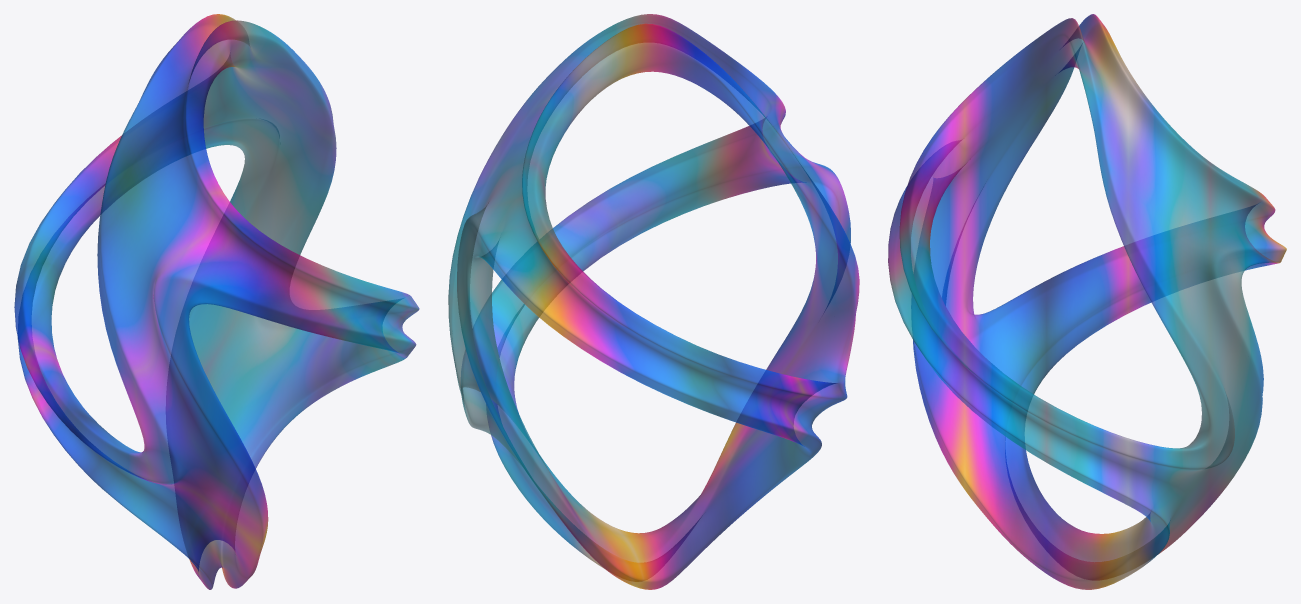
Rendered from abstract3-transformed.glb.
3 views of the same model, side by side, from view 1: azimuth 30°, elevation 25°; view 2: azimuth 150°, elevation 25°; view 3: azimuth 270°, elevation 25° (orthographic).
Parts seen in each view (by area): view 1: Hedra001_Material #0_0; view 2: Hedra001_Material #0_0; view 3: Hedra001_Material #0_0.
Boxes of the visible parts, x1,y1,x2,y2 form: Hedra001_Material #0_0: (14,14,419,589); Hedra001_Material #0_0: (448,14,859,589); Hedra001_Material #0_0: (888,14,1286,589).
Size of the model in its own units: 1.84 by 2.88 by 1.84.
1 material, 1 textured.
